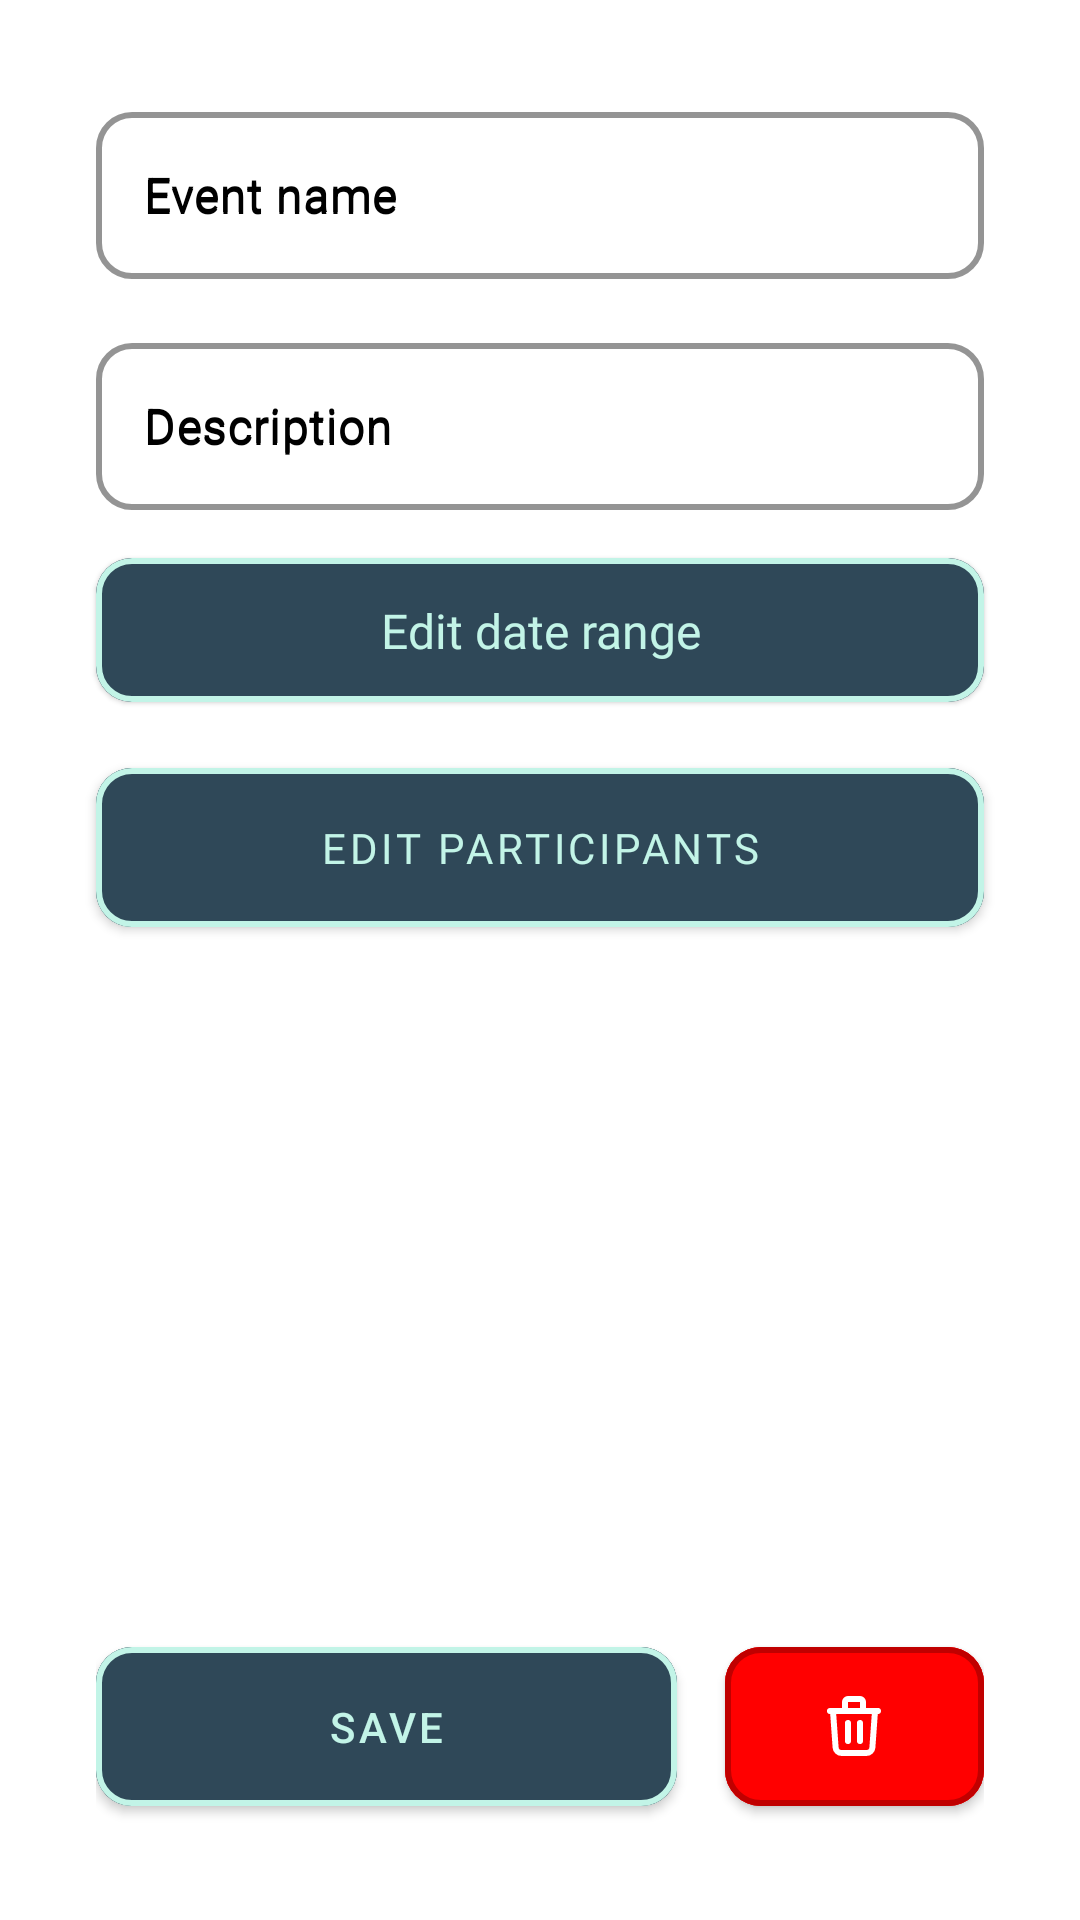

Icon click points for this 1080*1920 phone screenshot, format (x=x, y=y):
Delete this event: (x=854, y=1729)
